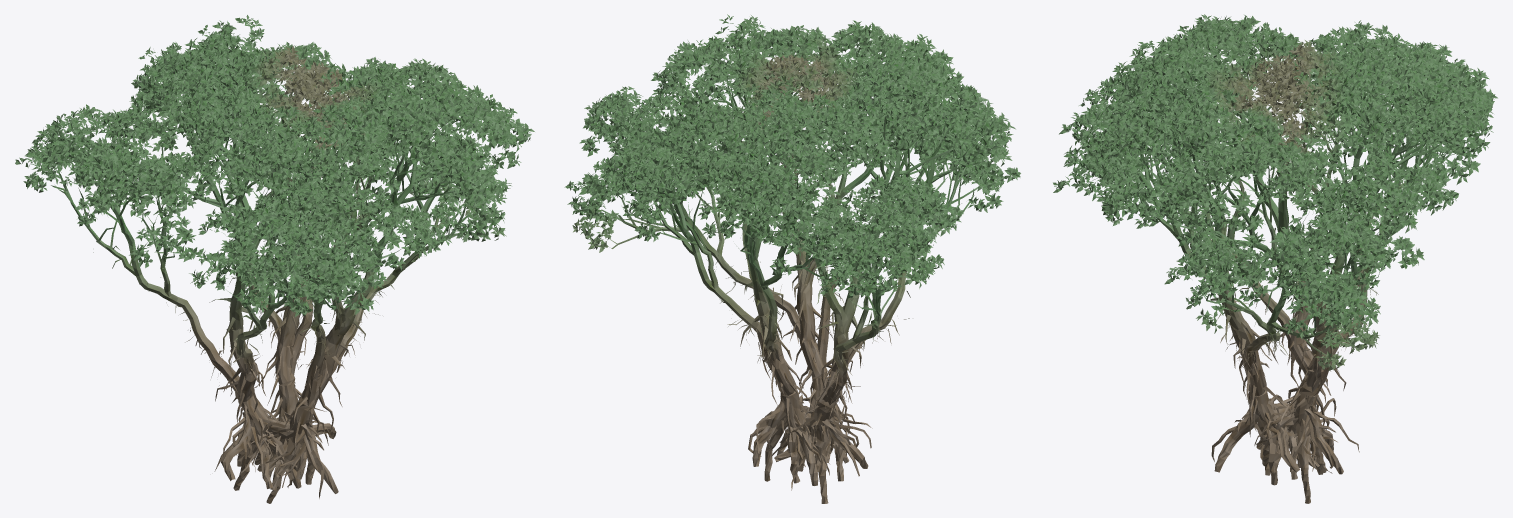
Rendered from mangrove-hero.glb.
The picture shows the model from 3 angles, left to right: view 1: azimuth 30°, elevation 25°; view 2: azimuth 150°, elevation 25°; view 3: azimuth 270°, elevation 25°; orthographic projection. The views are drawn at different scales.
Parts seen in each view (by area): view 1: world; view 2: world; view 3: world.
Boxes of the visible parts, bbox=[...] form: world: bbox=[15, 15, 534, 503]; world: bbox=[564, 14, 1020, 503]; world: bbox=[1053, 14, 1497, 503].
Size of the model in its own units: 6.55 by 6.43 by 5.81.
